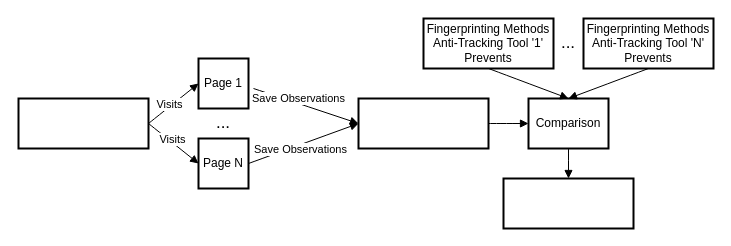
Image size: 731x246. Some labels were removed from this diagram. Here are the shapes that lost their labels. From the top down, the box of each, then its label:
(17, 97, 149, 149): JShelter Fingerprinting Detector
(357, 97, 489, 149): Observed Fingerprinting Attempts
(502, 177, 634, 229): Number of Attempts Given Tool Would Have Prevented
